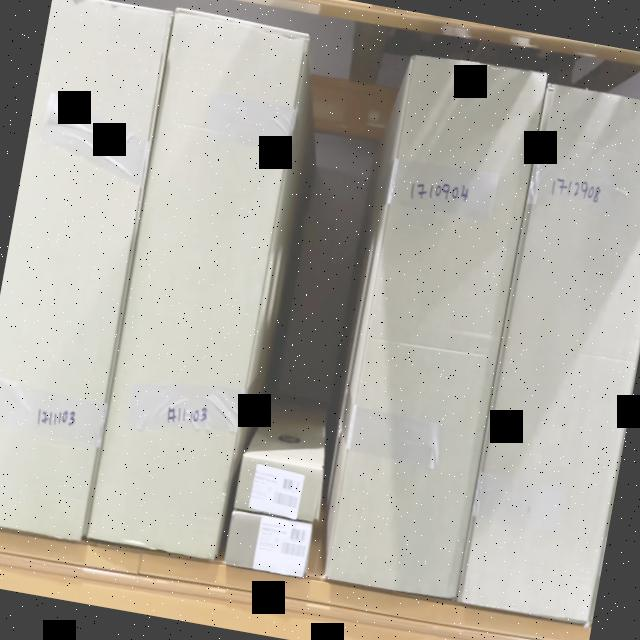box: (84, 16, 306, 559), (324, 58, 546, 598), (463, 86, 640, 621), (0, 0, 170, 537), (233, 457, 321, 522), (225, 516, 310, 576)
